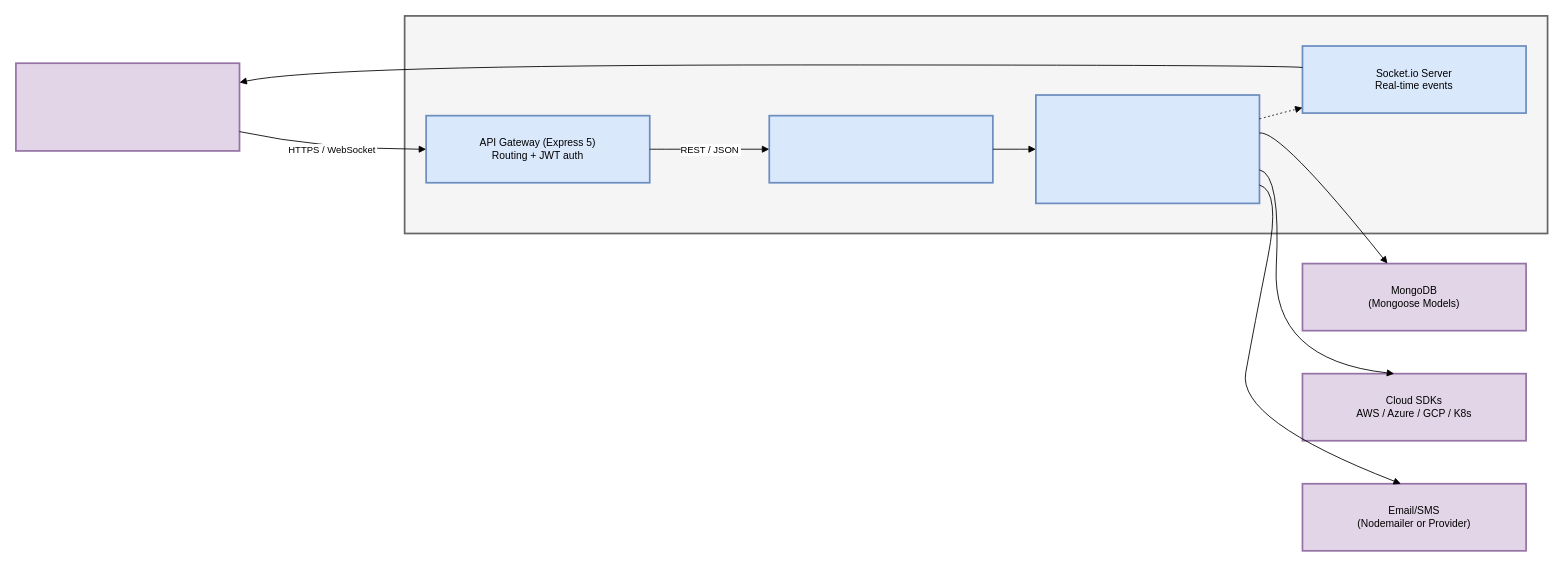
Some shapes in this 1563 by 566 pixel diagram are drawn without their labels. Here are the shapes that lost their labels. From the top down, the centre of each, then its label:
the point at 127,106: Browser (React/Vite) Charts + Three.js
the point at 880,148: Controllers Auth / Cloud / AI / Compliance
the point at 1147,149: Services Layer Cloud SDKs + Rule Engine Schedulers + Notifications
